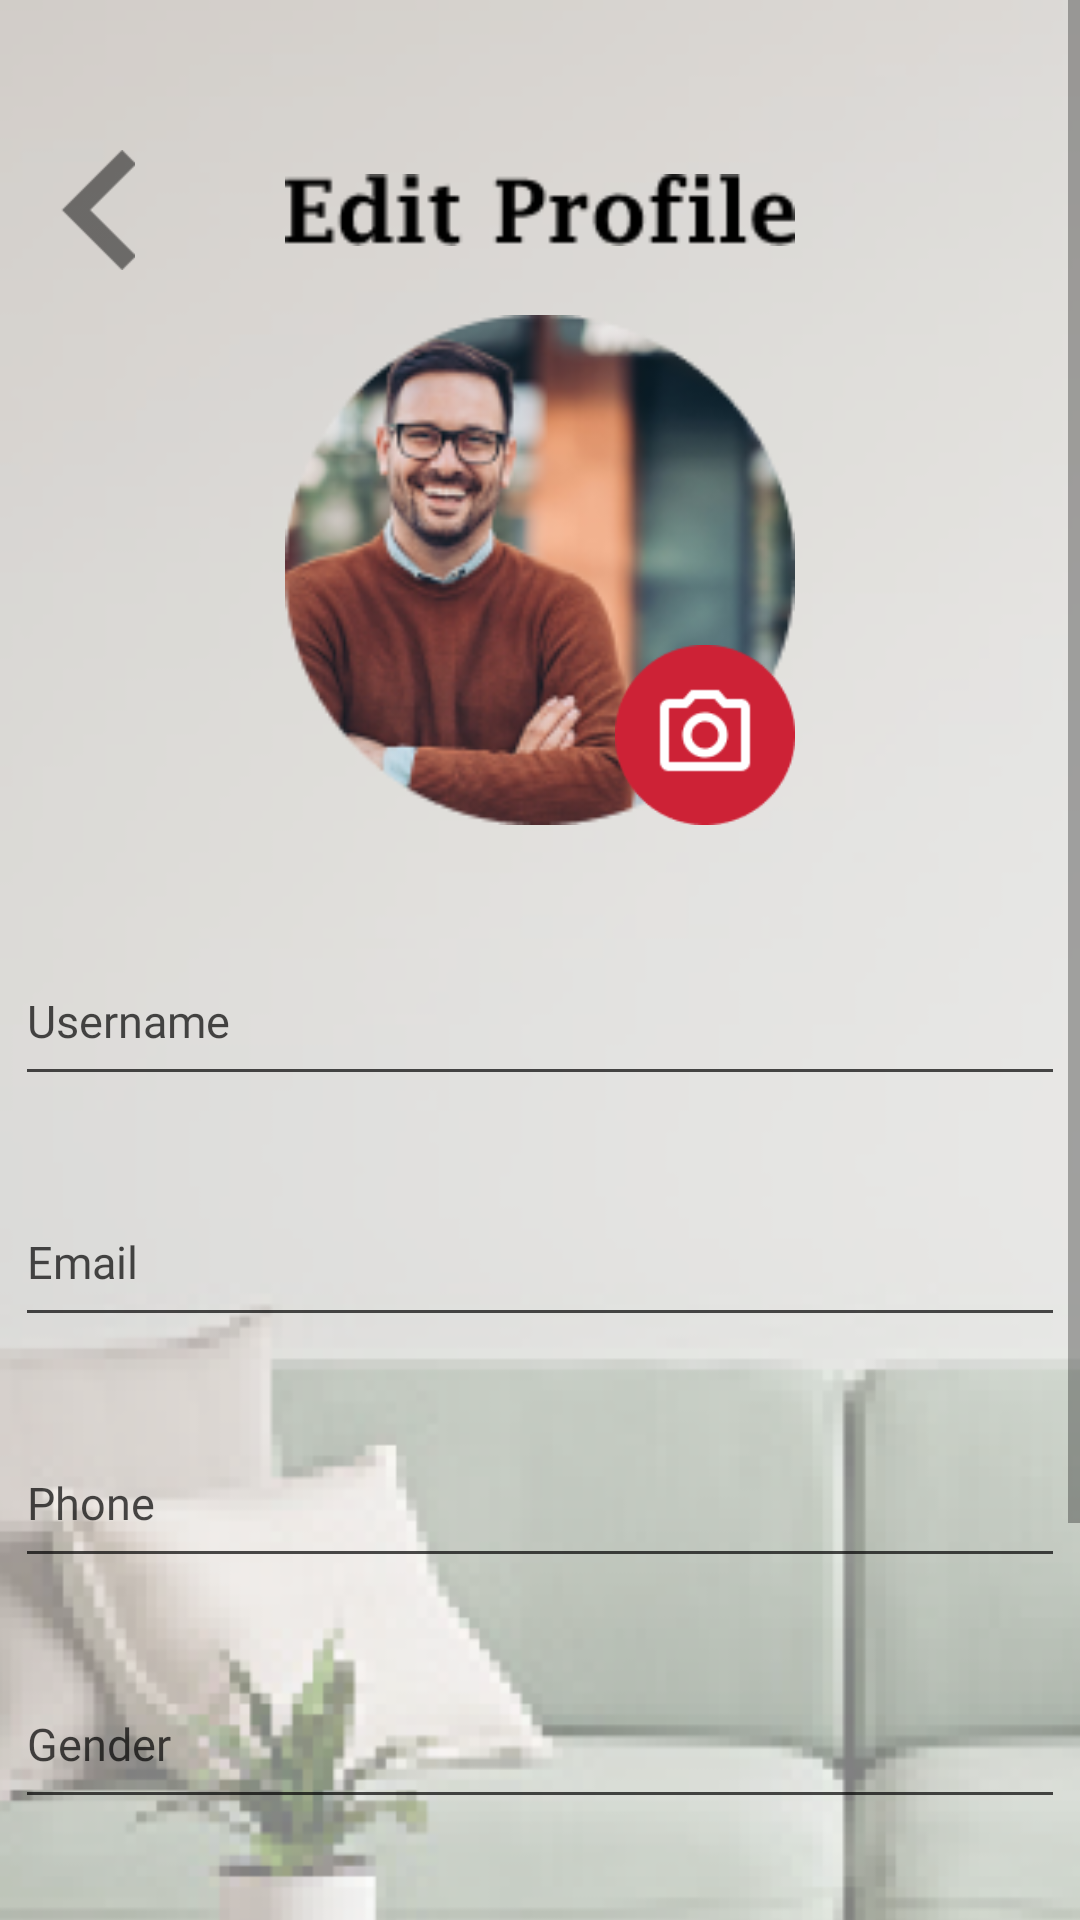

Icon click points for this 1080w x 1920h phone screenshot, format point (x, y):
back but: point (98, 210)
